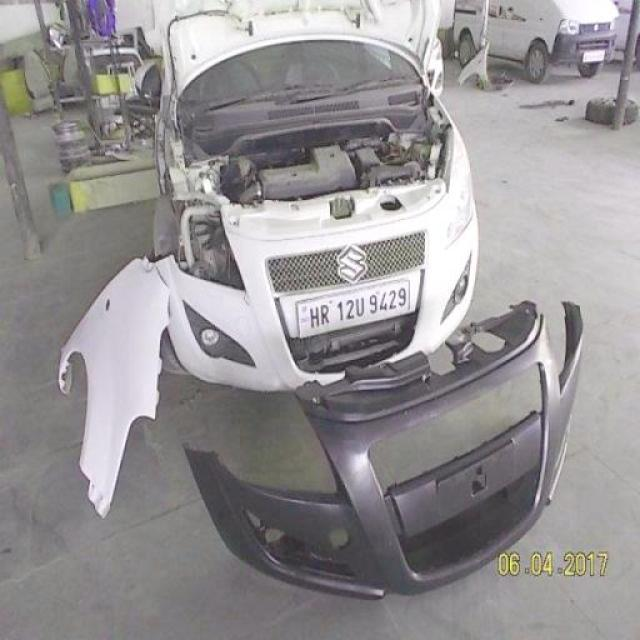Car-Damage: (155, 131, 248, 300)
